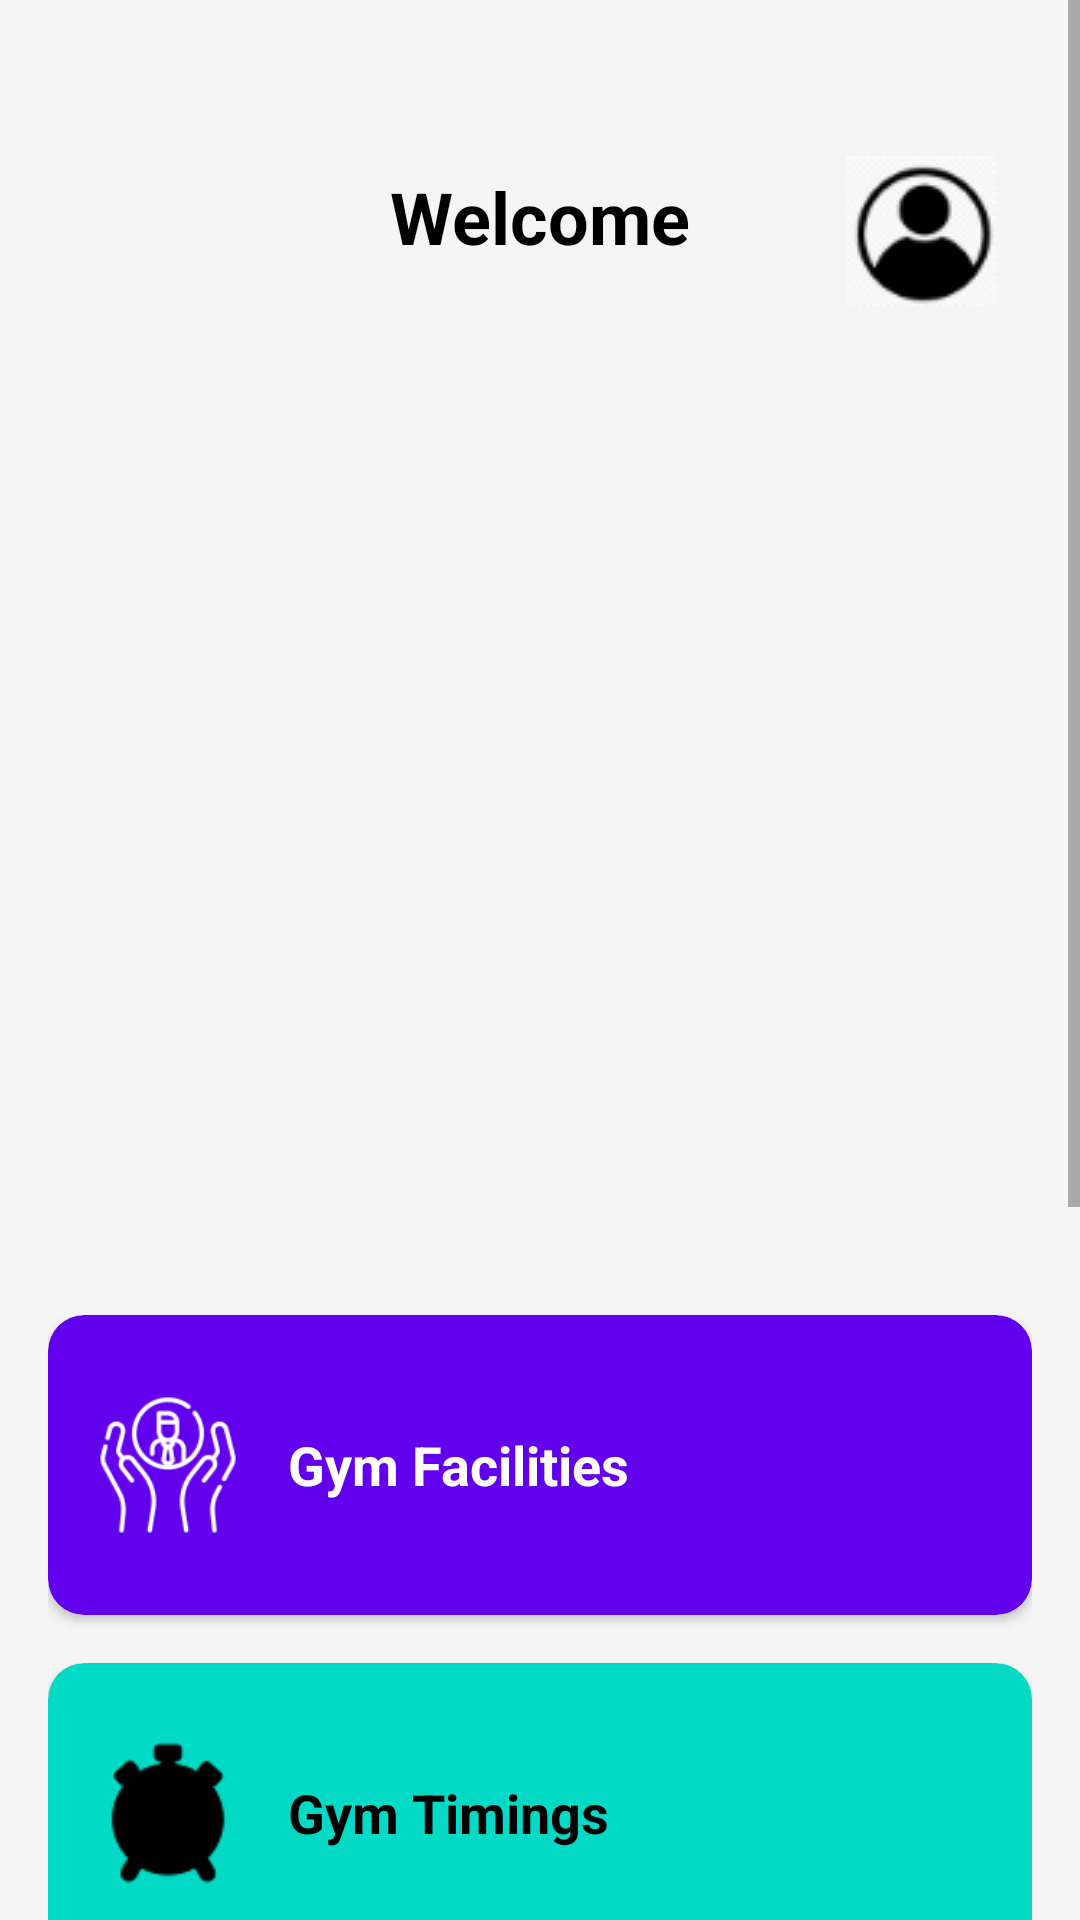

Icon click points for this 1080 × 1920 phone screenshot, format point (x, y):
profile: point (924, 234)
